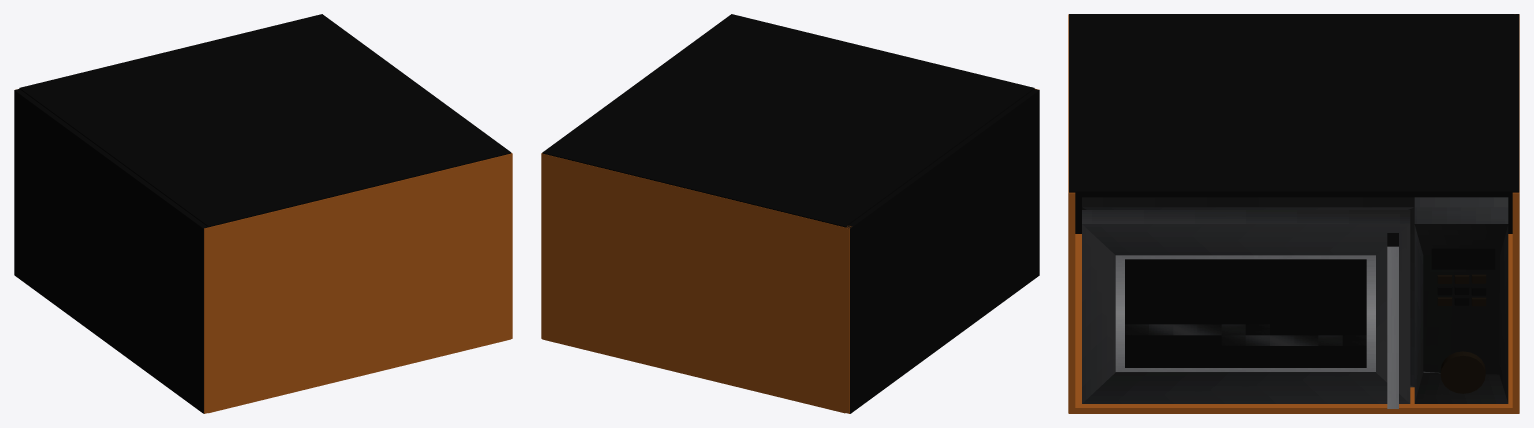
Rendered from Microondas.obj.
3 renders of one model, left to right at view 1: azimuth 30°, elevation 25°; view 2: azimuth 150°, elevation 25°; view 3: azimuth 270°, elevation 25°, orthographic. The views are drawn at different scales.
Visible parts, largest first — view 1: Microondas:polySurface71; view 2: Microondas:polySurface71; view 3: Microondas:polySurface71.
Boxes of the visible parts, x1,y1,x2,y2 form: Microondas:polySurface71: [14, 14, 512, 413]; Microondas:polySurface71: [541, 14, 1039, 413]; Microondas:polySurface71: [1068, 14, 1519, 413].
Size of the model in its own units: 0.5682 by 0.3089 by 0.5683.
